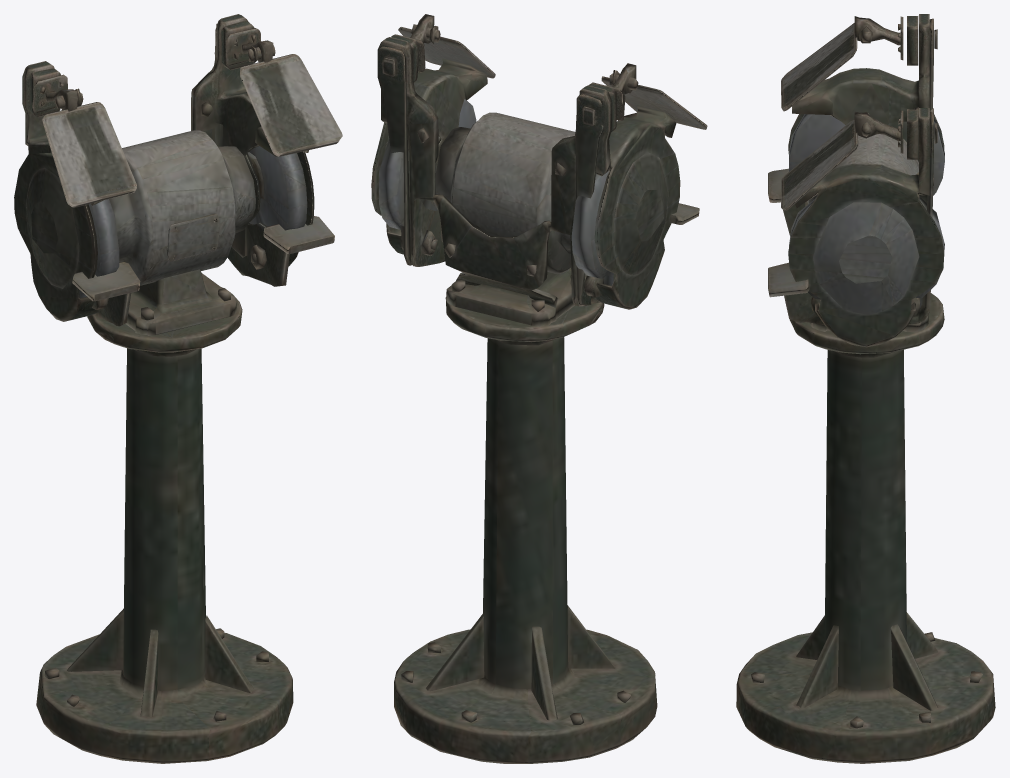
File: p7-bench-grinder-stand-t25.glb
3 views of the same model, side by side, from view 1: azimuth 30°, elevation 25°; view 2: azimuth 150°, elevation 25°; view 3: azimuth 270°, elevation 25° (orthographic). The views are drawn at different scales.
Parts seen in each view (by area): view 1: p7-bench-grinder-stand-t25; view 2: p7-bench-grinder-stand-t25; view 3: p7-bench-grinder-stand-t25.
Boxes of the visible parts, <box> form: p7-bench-grinder-stand-t25: <box>14,14,342,763</box>; p7-bench-grinder-stand-t25: <box>371,14,707,763</box>; p7-bench-grinder-stand-t25: <box>736,14,995,763</box>.
Bounding box in the file's own units: 0.554 × 1.25 × 0.454.
Materials: 1 (1 with a texture image).
